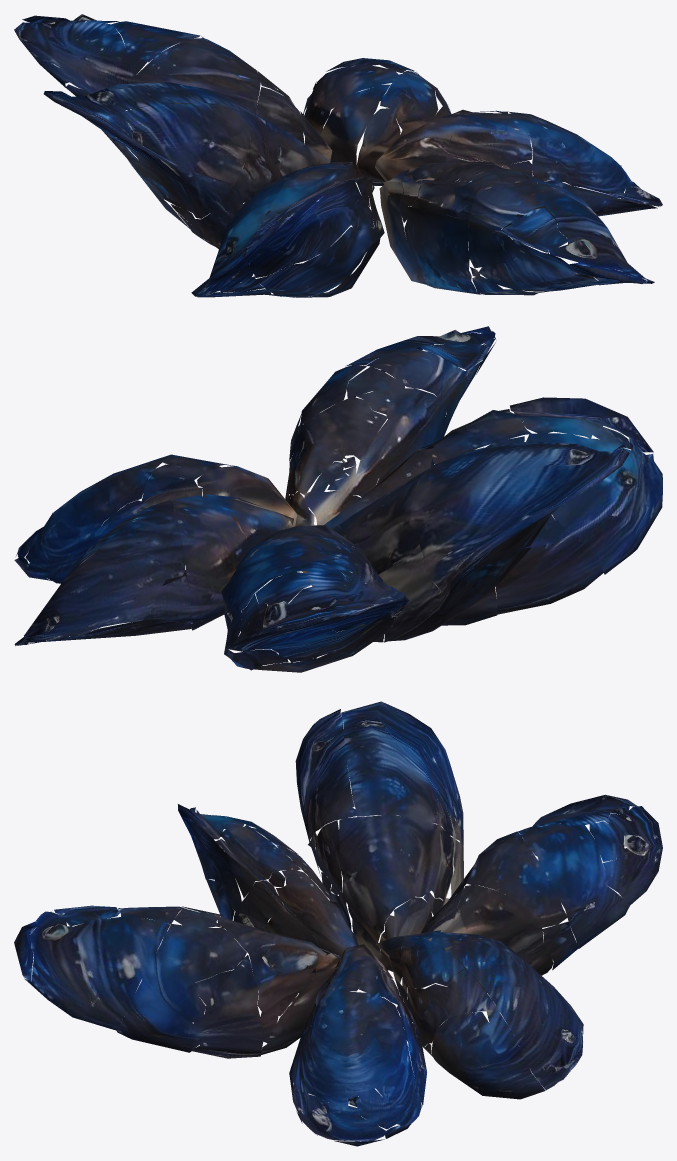
File: mussel_clump.glb
3 views of the same model, one above another, from view 1: azimuth 30°, elevation 25°; view 2: azimuth 150°, elevation 25°; view 3: azimuth 270°, elevation 25° (orthographic). The views are drawn at different scales.
Parts seen in each view (by area): view 1: tripo_node_8f82ee2a-9d6a-472d-a0c2-9fecffd646cd; view 2: tripo_node_8f82ee2a-9d6a-472d-a0c2-9fecffd646cd; view 3: tripo_node_8f82ee2a-9d6a-472d-a0c2-9fecffd646cd.
Part boxes in pixels (<box>): tripo_node_8f82ee2a-9d6a-472d-a0c2-9fecffd646cd: <box>14,14,662,297</box>; tripo_node_8f82ee2a-9d6a-472d-a0c2-9fecffd646cd: <box>14,326,662,672</box>; tripo_node_8f82ee2a-9d6a-472d-a0c2-9fecffd646cd: <box>14,701,662,1146</box>.
Bounding box in the file's own units: 0.8982 × 0.3429 × 1.
1 material, 1 textured.
